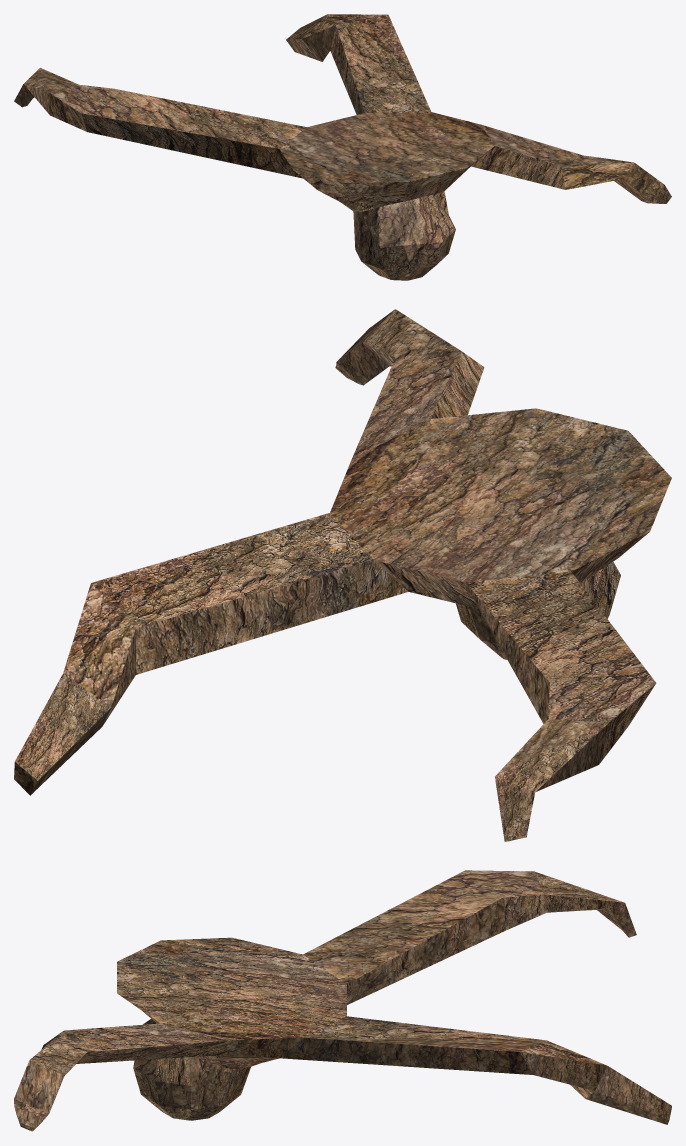
Rendered from hand_v3.glb.
3 renders of one model, top to bottom at view 1: azimuth 30°, elevation 25°; view 2: azimuth 150°, elevation 25°; view 3: azimuth 270°, elevation 25°, orthographic. The views are drawn at different scales.
Visible parts, largest first — view 1: Cylinder.025; view 2: Cylinder.025; view 3: Cylinder.025.
Boxes of the visible parts, bbox=[...] form: Cylinder.025: bbox=[14, 14, 671, 280]; Cylinder.025: bbox=[14, 309, 671, 841]; Cylinder.025: bbox=[14, 870, 671, 1131].
Size of what is drawn, in the model's own units: 6.25 by 1.92 by 8.04.
1 material, 1 textured.
